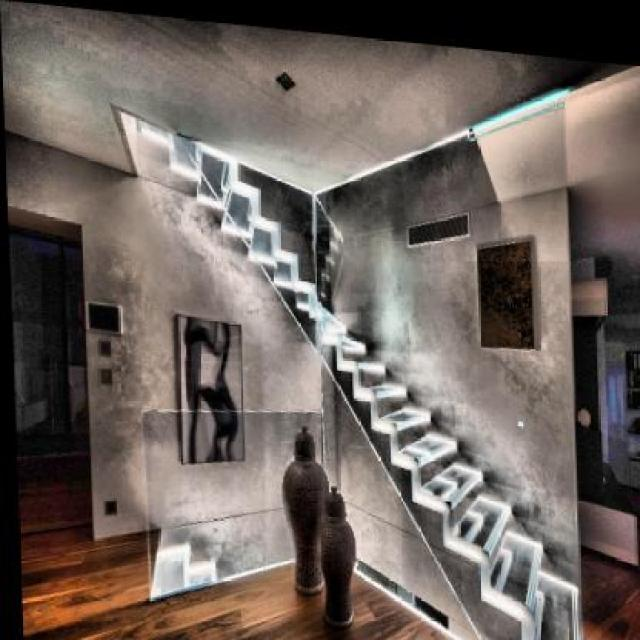stair: (355, 384, 583, 638)
